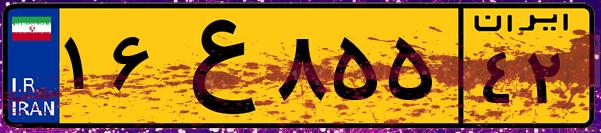1: (57, 26, 110, 100)
2: (525, 38, 570, 115)
4: (475, 38, 525, 113)
5: (385, 28, 445, 110), (330, 28, 385, 110)
6: (110, 28, 158, 98)
8: (270, 28, 330, 110)
ع: (158, 12, 270, 120)
